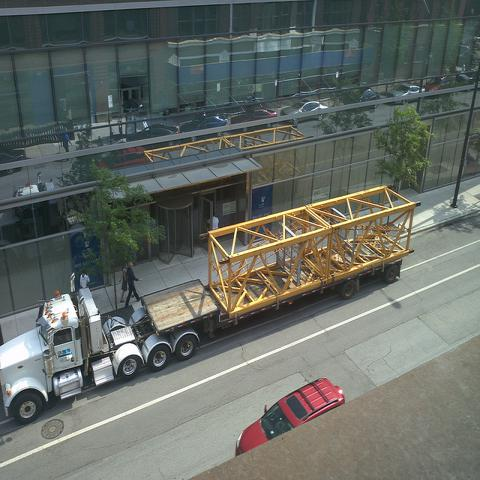car: (236, 376, 345, 461), (180, 113, 228, 144), (98, 147, 153, 171), (230, 108, 278, 134), (279, 100, 328, 125), (125, 124, 179, 142), (13, 179, 54, 197), (422, 74, 458, 91), (393, 82, 420, 97), (358, 88, 380, 102), (456, 73, 476, 84)
truck: (0, 185, 422, 425)
